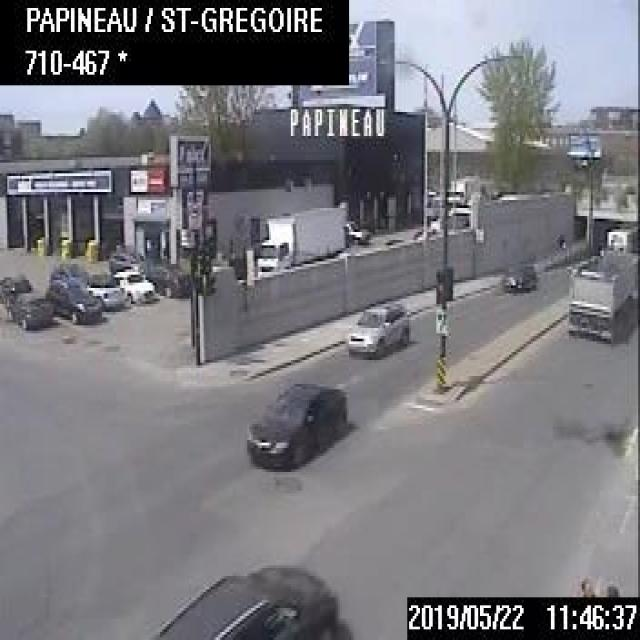pedestrian: (575, 573, 594, 595)
vehicle: (151, 560, 336, 637), (244, 378, 347, 466), (562, 250, 638, 344), (252, 201, 346, 272), (346, 299, 408, 352), (43, 276, 101, 323), (5, 290, 54, 330), (115, 267, 154, 308), (148, 260, 188, 299), (88, 270, 124, 311), (502, 256, 536, 291), (49, 260, 88, 286), (108, 246, 145, 273), (0, 273, 31, 303), (346, 217, 369, 244)
